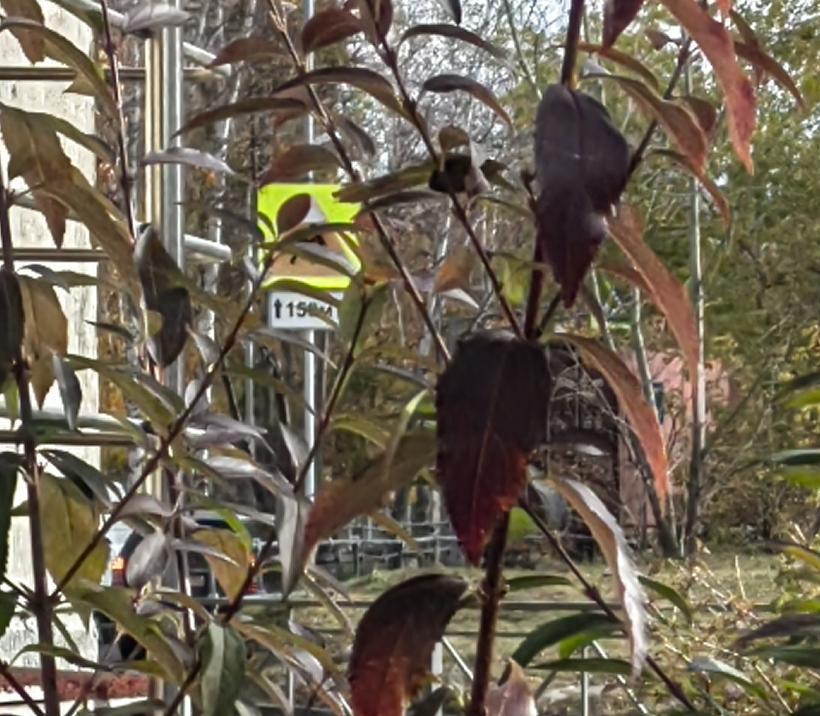obstructed_road_sign: (257, 184, 363, 289), (266, 290, 341, 331)
